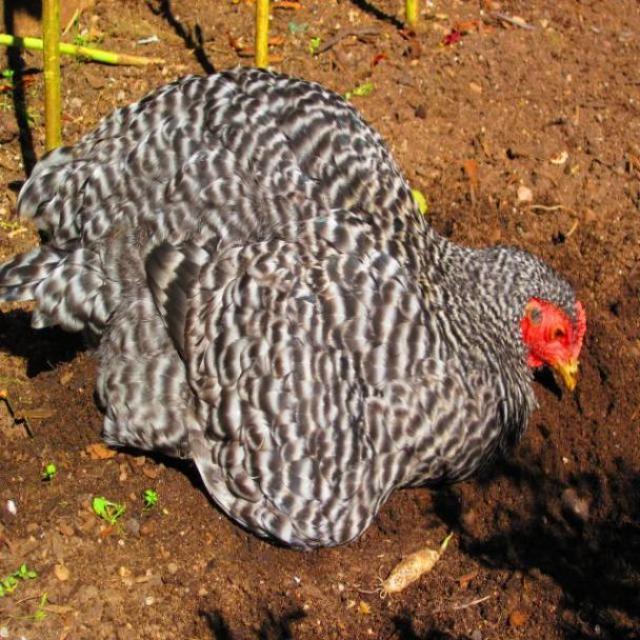Chicken: (16, 63, 588, 550)
